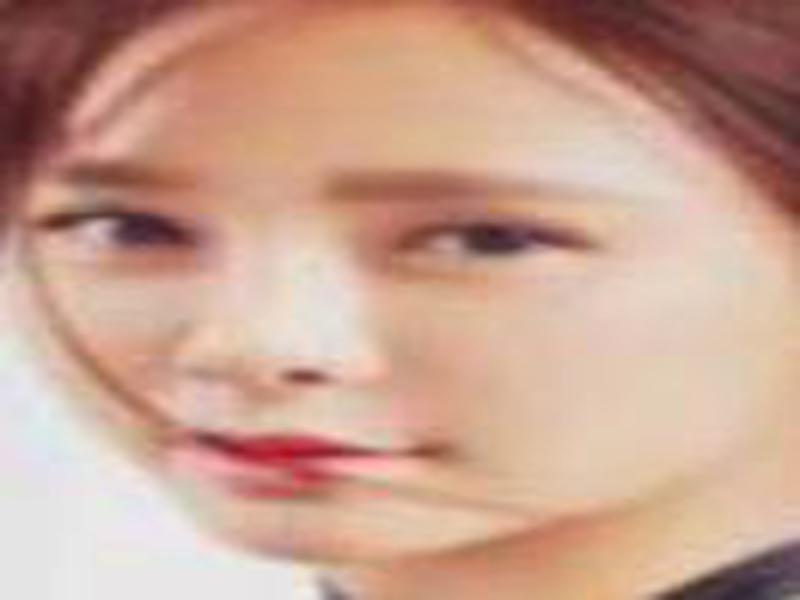without_mask: (16, 74, 774, 559)
